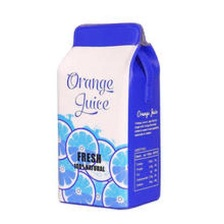carton: (50, 17, 165, 213)
